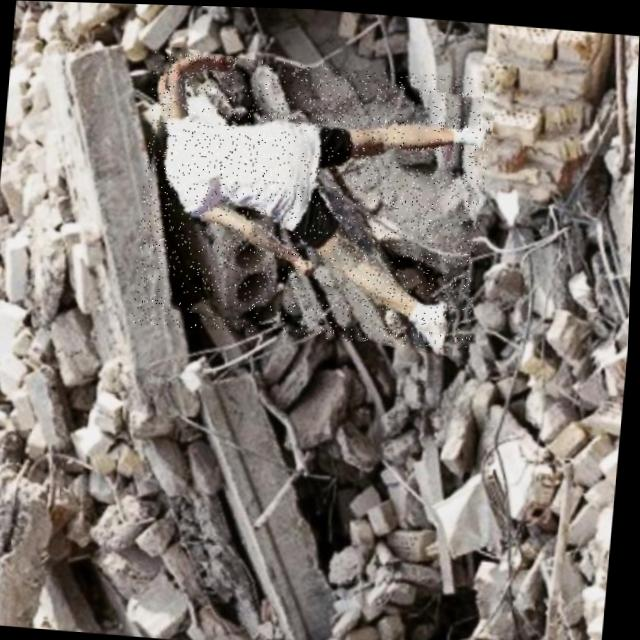Person in Rubble: (133, 50, 495, 348)
